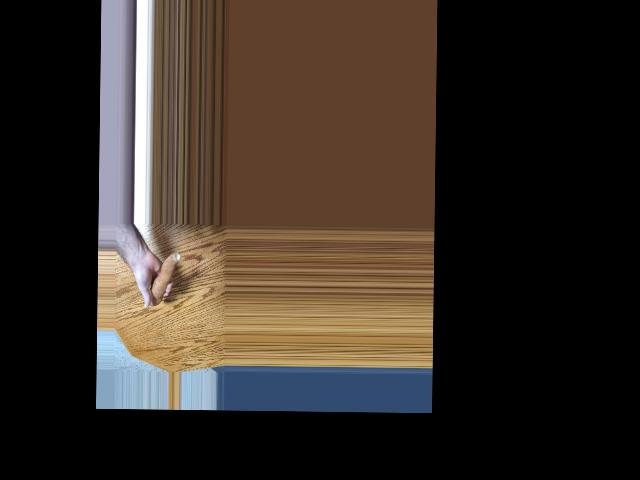sweet_potato: (150, 249, 180, 304)
